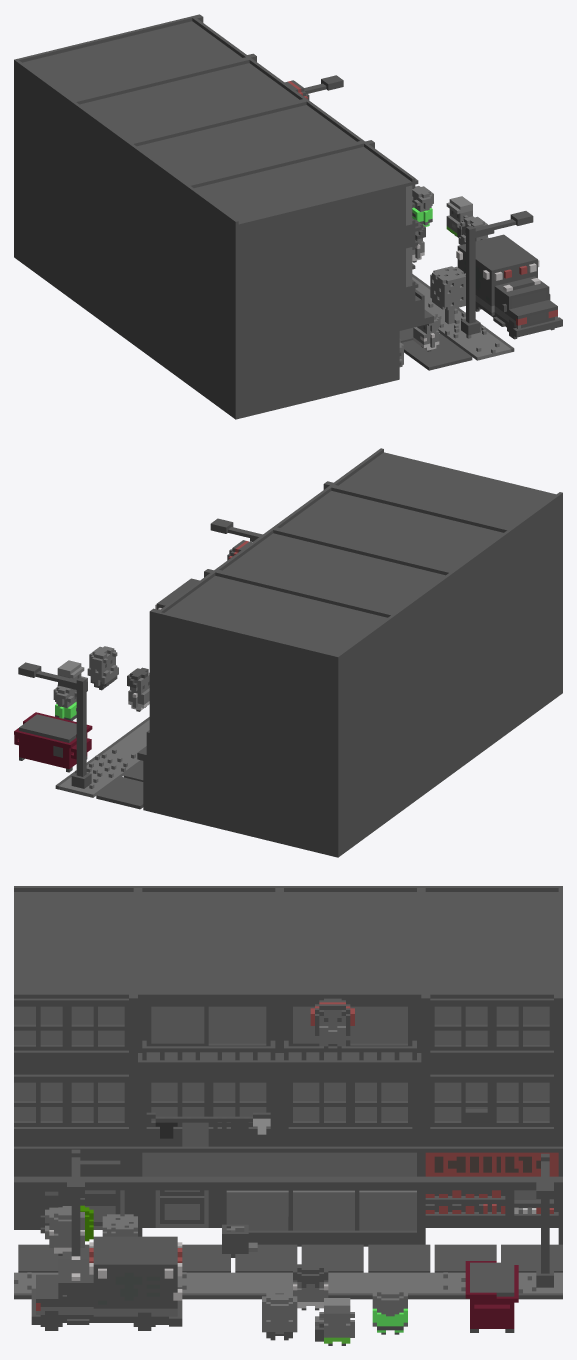
Rendered from scene_store8.obj.
3 views of the same model, one above another, from view 1: azimuth 30°, elevation 25°; view 2: azimuth 150°, elevation 25°; view 3: azimuth 270°, elevation 25° (orthographic). The views are drawn at different scales.
Bounding box in the file's own units: 117 × 61 × 124.
